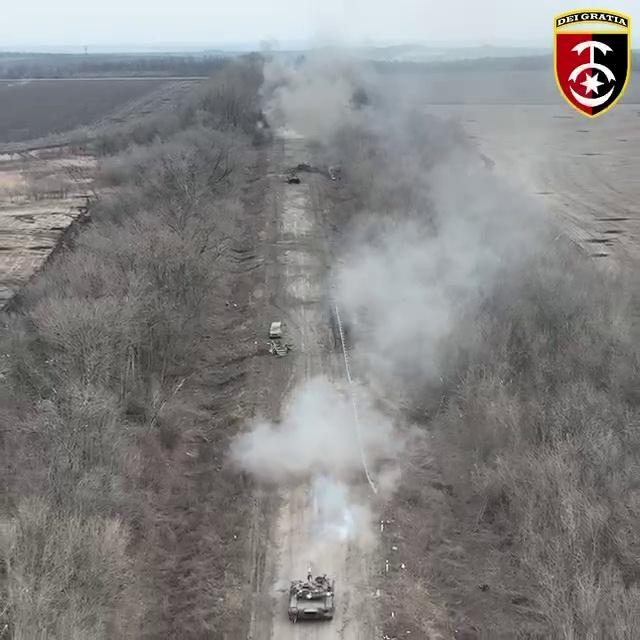vehicle: (289, 570, 335, 624), (268, 321, 284, 339), (288, 172, 299, 185)
